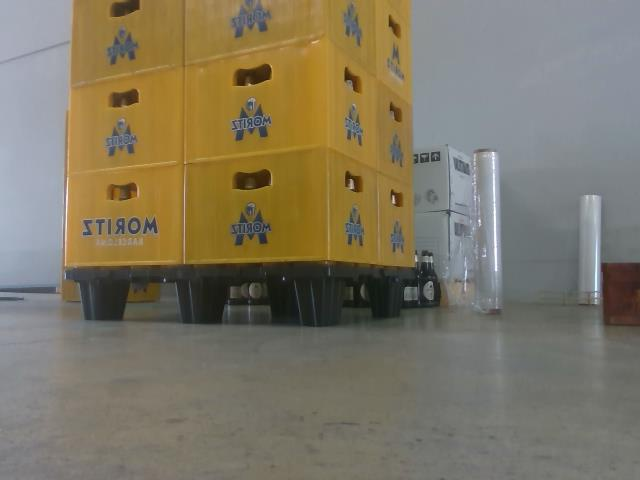block: (284, 282, 348, 328), (75, 277, 133, 321), (175, 280, 229, 327), (365, 289, 407, 318)
hole pallet: (65, 263, 332, 337), (222, 279, 286, 322), (105, 278, 177, 316)
